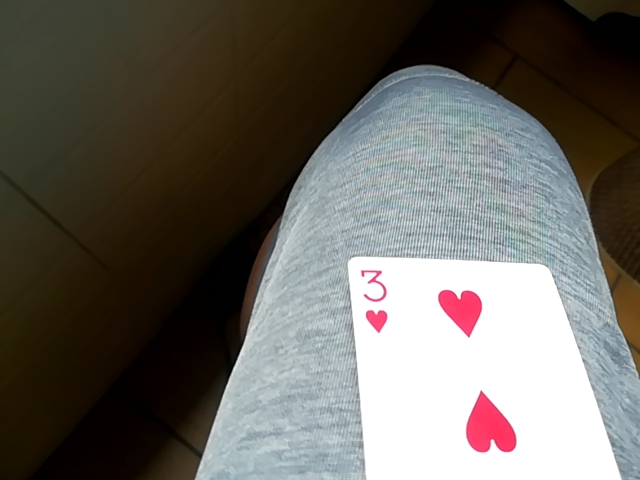hx 3: (342, 250, 620, 479)
